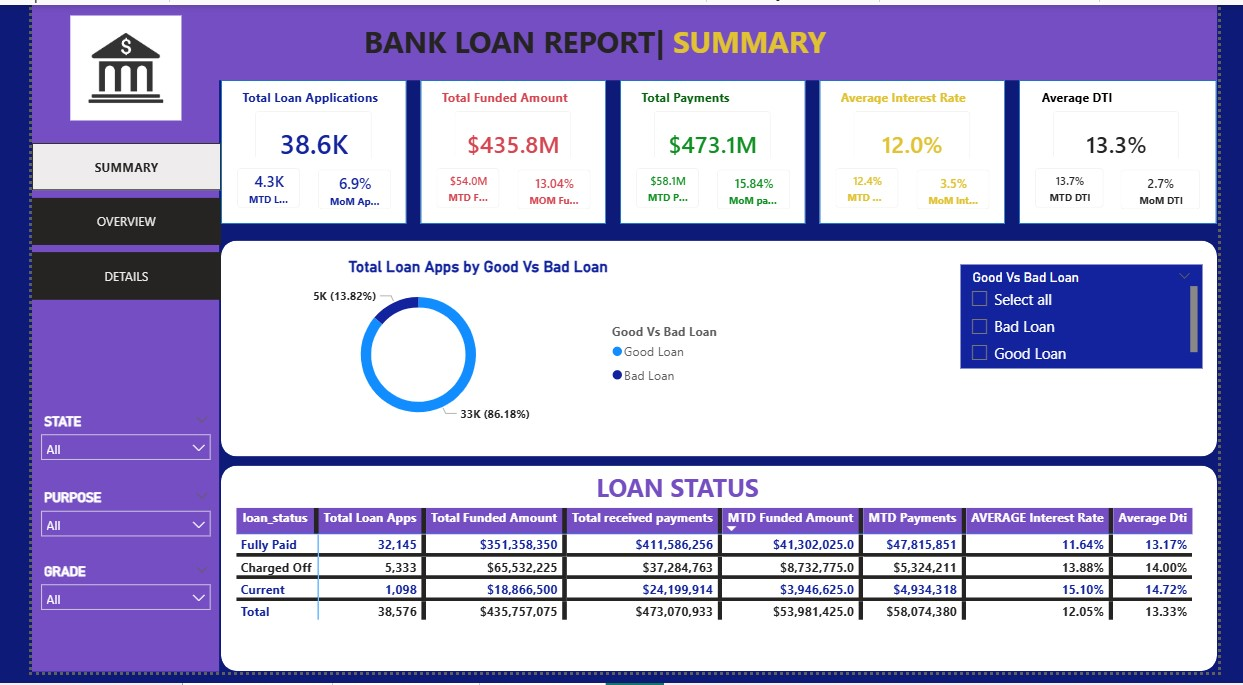

The dashboard page shown, as its layout file describes it:
{"tool":"powerbi","page":{"name":"SUMMARY","canvas":[1280,720],"ordinal":0},"visuals":[{"type":"shape","box":[0,81.3,202.2,638.7],"z":0},{"type":"cardVisual","fields":{"Data":["ANALYSIS.Total Loan Apps"]},"box":[222.9,98,160.6,101],"z":0,"group":"g3"},{"type":"cardVisual","fields":{"Data":["ANALYSIS.Total Funded Amount"]},"box":[438.3,98,160.6,101],"z":0,"group":"g4"},{"type":"cardVisual","fields":{"Data":["ANALYSIS.Total received payments"]},"box":[653.6,98,160.6,101],"z":0,"group":"g5"},{"type":"cardVisual","fields":{"Data":["ANALYSIS.AVERAGE Interest Rate"]},"box":[869,98,160.6,101],"z":0,"group":"g6"},{"type":"cardVisual","fields":{"Data":["ANALYSIS.Average Dti"]},"box":[1085.6,98,171,101],"z":0,"group":"g7"},{"type":"shape","box":[0,0,1279.4,81.3],"z":1000},{"type":"textbox","box":[222,84.7,166.8,28],"z":1000,"group":"g3"},{"type":"textbox","box":[437.4,84.7,166.8,28],"z":1000,"group":"g4"},{"type":"textbox","box":[652.7,84.7,166.8,28],"z":1000,"group":"g5"},{"type":"textbox","box":[868.1,84.7,166.8,28],"z":1000,"group":"g6"},{"type":"textbox","box":[1084.7,84.7,177.5,28],"z":1000,"group":"g7"},{"type":"textbox","box":[353.4,11.3,521.6,60.5],"z":2000},{"type":"cardVisual","fields":{"Data":["ANALYSIS.MTD Loan Apps"]},"box":[204.2,159.2,102,77.2],"z":2000,"group":"g3"},{"type":"cardVisual","fields":{"Data":["ANALYSIS.MTD Funded Amount"]},"box":[419.6,159.2,102,77.2],"z":2000,"group":"g4"},{"type":"cardVisual","fields":{"Data":["ANALYSIS.MTD Payments"]},"box":[634.9,159.2,102,77.2],"z":2000,"group":"g5"},{"type":"cardVisual","fields":{"Data":["ANALYSIS.MTD Avg Interest"]},"box":[850.3,159.2,102,77.2],"z":2000,"group":"g6"},{"type":"cardVisual","fields":{"Data":["ANALYSIS.MTD DTI"]},"box":[1065.7,159.2,108.6,77.2],"z":2000,"group":"g7"},{"type":"group","id":"g1","title":"Group 2","box":[204,81,200.8,157.1],"z":3000},{"type":"shape","box":[204,81,200.3,155.3],"z":3000,"group":"g1"},{"type":"shape","box":[419.4,81,200.3,155.3],"z":3000,"group":"g2"},{"type":"shape","box":[634.7,81,200.3,155.3],"z":3000,"group":"g8"},{"type":"shape","box":[850.1,81,200.3,155.3],"z":3000,"group":"g9"},{"type":"shape","box":[1065.5,81,213.2,155.3],"z":3000,"group":"g10"},{"type":"cardVisual","fields":{"Data":["ANALYSIS.MoM Apps"]},"box":[291.6,160.6,113.3,77.2],"z":3000,"group":"g3"},{"type":"cardVisual","fields":{"Data":["ANALYSIS.MOM Funded Amount"]},"box":[507,160.6,113.3,77.2],"z":3000,"group":"g4"},{"type":"cardVisual","fields":{"Data":["ANALYSIS.MoM payments"]},"box":[722.3,160.6,113.3,77.2],"z":3000,"group":"g5"},{"type":"cardVisual","fields":{"Data":["ANALYSIS.MoM Interest Rate"]},"box":[937.7,160.6,113.3,77.2],"z":3000,"group":"g6"},{"type":"cardVisual","fields":{"Data":["ANALYSIS.MoM DTI"]},"box":[1158.8,160.6,120.7,77.2],"z":3000,"group":"g7"},{"type":"group","id":"g2","title":"Group 2","box":[419.4,81,200.8,157.1],"z":4000},{"type":"group","id":"g3","title":"Group 1","box":[204.2,84.7,200.8,153.1],"z":4005,"group":"g1"},{"type":"group","id":"g4","title":"Group 1","box":[419.6,84.7,200.8,153.1],"z":4005,"group":"g2"},{"type":"group","id":"g5","title":"Group 1","box":[634.9,84.7,200.8,153.1],"z":4005,"group":"g8"},{"type":"group","id":"g6","title":"Group 1","box":[850.3,84.7,200.8,153.1],"z":4005,"group":"g9"},{"type":"group","id":"g7","title":"Group 1","box":[1065.7,84.7,213.7,153.1],"z":4005,"group":"g10"},{"type":"group","id":"g8","title":"Group 2","box":[634.7,81,200.8,157.1],"z":5000},{"type":"group","id":"g9","title":"Group 2","box":[850.1,81,200.8,157.1],"z":6000},{"type":"group","id":"g10","title":"Group 2","box":[1065.5,81,213.7,157.1],"z":7000},{"type":"shape","box":[204,254.2,1075.2,233.2],"z":8000},{"type":"donutChart","fields":{"Category":["loan.Good Vs Bad Loan"],"Y":["ANALYSIS.Total Loan Apps"]},"box":[202.4,272,558.6,189.4],"z":9000},{"type":"shape","box":[204,497.1,1075.2,221.8],"z":10000},{"type":"slicer","fields":{"Values":["loan.Good Vs Bad Loan"]},"box":[1002.3,280.1,260.7,111.7],"z":11000},{"type":"pivotTable","fields":{"Rows":["loan.loan_status"],"Values":["ANALYSIS.Total Loan Apps","ANALYSIS.Total Funded Amount","ANALYSIS.Total received payments","ANALYSIS.MTD Funded Amount","ANALYSIS.MTD Payments","ANALYSIS.AVERAGE Interest Rate","ANALYSIS.Average Dti"]},"box":[215.4,537.6,1042.8,144.1],"z":12000},{"type":"textbox","box":[604,497.1,217,51.8],"z":13000},{"type":"slicer","fields":{"Values":["loan.address_state"]},"box":[0,435.6,202.4,61.5],"z":14000},{"type":"slicer","fields":{"Values":["loan.grade"]},"box":[0,597.5,202.4,61.5],"z":16000},{"type":"slicer","fields":{"Values":["loan.purpose"]},"box":[0,518.2,202.4,61.5],"z":17000},{"type":"image","box":[0,11.3,202.4,113.3],"z":17001},{"type":"pageNavigator","box":[0,149,204,171.6],"z":17002}]}

Visuals, with their boxes in screenshot pixels (x1, y1, x2, y2), scaled from the page's 1280x720 canvas onto the 1243x685 screenshot:
shape: x1=0, y1=77, x2=196, y2=684
cardVisual - ANALYSIS.Total Loan Apps: x1=216, y1=93, x2=372, y2=189
cardVisual - ANALYSIS.Total Funded Amount: x1=426, y1=93, x2=582, y2=189
cardVisual - ANALYSIS.Total received payments: x1=635, y1=93, x2=791, y2=189
cardVisual - ANALYSIS.AVERAGE Interest Rate: x1=844, y1=93, x2=1000, y2=189
cardVisual - ANALYSIS.Average Dti: x1=1054, y1=93, x2=1220, y2=189
shape: x1=0, y1=0, x2=1242, y2=77
textbox: x1=216, y1=81, x2=378, y2=107
textbox: x1=425, y1=81, x2=587, y2=107
textbox: x1=634, y1=81, x2=796, y2=107
textbox: x1=843, y1=81, x2=1005, y2=107
textbox: x1=1053, y1=81, x2=1226, y2=107
textbox: x1=343, y1=11, x2=850, y2=68
cardVisual - ANALYSIS.MTD Loan Apps: x1=198, y1=151, x2=297, y2=225
cardVisual - ANALYSIS.MTD Funded Amount: x1=407, y1=151, x2=507, y2=225
cardVisual - ANALYSIS.MTD Payments: x1=617, y1=151, x2=716, y2=225
cardVisual - ANALYSIS.MTD Avg Interest: x1=826, y1=151, x2=925, y2=225
cardVisual - ANALYSIS.MTD DTI: x1=1035, y1=151, x2=1140, y2=225
"Group 2" group: x1=198, y1=77, x2=393, y2=227
shape: x1=198, y1=77, x2=393, y2=225
shape: x1=407, y1=77, x2=602, y2=225
shape: x1=616, y1=77, x2=811, y2=225
shape: x1=826, y1=77, x2=1020, y2=225
shape: x1=1035, y1=77, x2=1242, y2=225
cardVisual - ANALYSIS.MoM Apps: x1=283, y1=153, x2=393, y2=226
cardVisual - ANALYSIS.MOM Funded Amount: x1=492, y1=153, x2=602, y2=226
cardVisual - ANALYSIS.MoM payments: x1=701, y1=153, x2=811, y2=226
cardVisual - ANALYSIS.MoM Interest Rate: x1=911, y1=153, x2=1021, y2=226
cardVisual - ANALYSIS.MoM DTI: x1=1125, y1=153, x2=1242, y2=226
"Group 2" group: x1=407, y1=77, x2=602, y2=227
"Group 1" group: x1=198, y1=81, x2=393, y2=226
"Group 1" group: x1=407, y1=81, x2=602, y2=226
"Group 1" group: x1=617, y1=81, x2=812, y2=226
"Group 1" group: x1=826, y1=81, x2=1021, y2=226
"Group 1" group: x1=1035, y1=81, x2=1242, y2=226
"Group 2" group: x1=616, y1=77, x2=811, y2=227
"Group 2" group: x1=826, y1=77, x2=1021, y2=227
"Group 2" group: x1=1035, y1=77, x2=1242, y2=227
shape: x1=198, y1=242, x2=1242, y2=464
donutChart - loan.Good Vs Bad Loan x ANALYSIS.Total Loan Apps: x1=197, y1=259, x2=739, y2=439
shape: x1=198, y1=473, x2=1242, y2=684
slicer - loan.Good Vs Bad Loan: x1=973, y1=266, x2=1226, y2=373
pivotTable - loan.loan_status x ANALYSIS.Total Loan Apps: x1=209, y1=511, x2=1222, y2=649
textbox: x1=587, y1=473, x2=797, y2=522
slicer - loan.address_state: x1=0, y1=414, x2=197, y2=473
slicer - loan.grade: x1=0, y1=568, x2=197, y2=627
slicer - loan.purpose: x1=0, y1=493, x2=197, y2=552
image: x1=0, y1=11, x2=197, y2=119
pageNavigator: x1=0, y1=142, x2=198, y2=305
